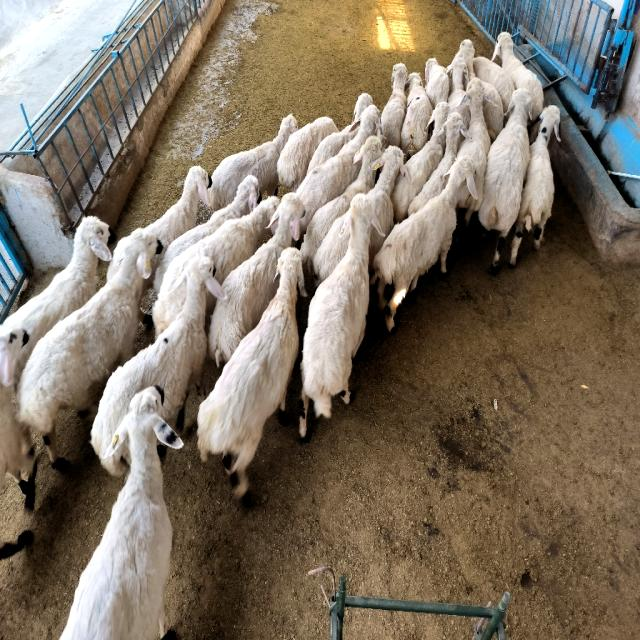sheep: (19, 228, 159, 462), (61, 387, 184, 640), (91, 258, 222, 475), (198, 248, 301, 498), (299, 193, 384, 439), (371, 157, 478, 331), (1, 217, 111, 386), (152, 197, 280, 336), (209, 192, 304, 364), (154, 175, 259, 293), (296, 105, 381, 234), (301, 137, 381, 271), (479, 88, 531, 272), (210, 115, 298, 210), (510, 105, 560, 266), (391, 102, 450, 222), (0, 325, 36, 509), (408, 112, 469, 216), (144, 167, 210, 252), (308, 93, 372, 171), (458, 78, 491, 228), (366, 147, 405, 271), (276, 117, 338, 192), (491, 32, 542, 121), (401, 73, 432, 158), (472, 57, 515, 112), (381, 63, 408, 146), (315, 218, 349, 282), (482, 82, 504, 141), (446, 57, 469, 110), (425, 58, 449, 108), (106, 237, 129, 281), (456, 40, 475, 79), (144, 255, 159, 289)
